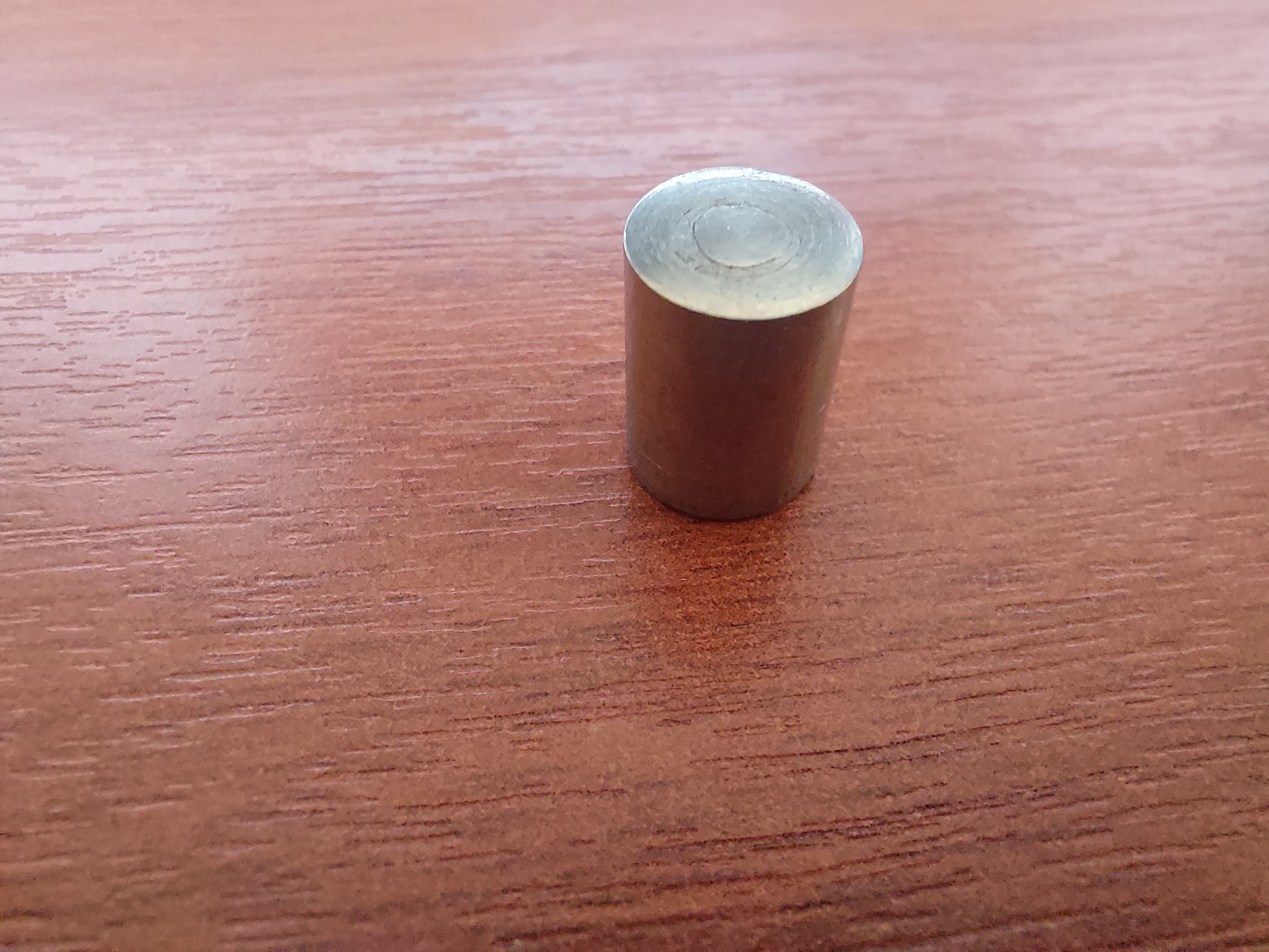tablet: (618, 170, 873, 536)
